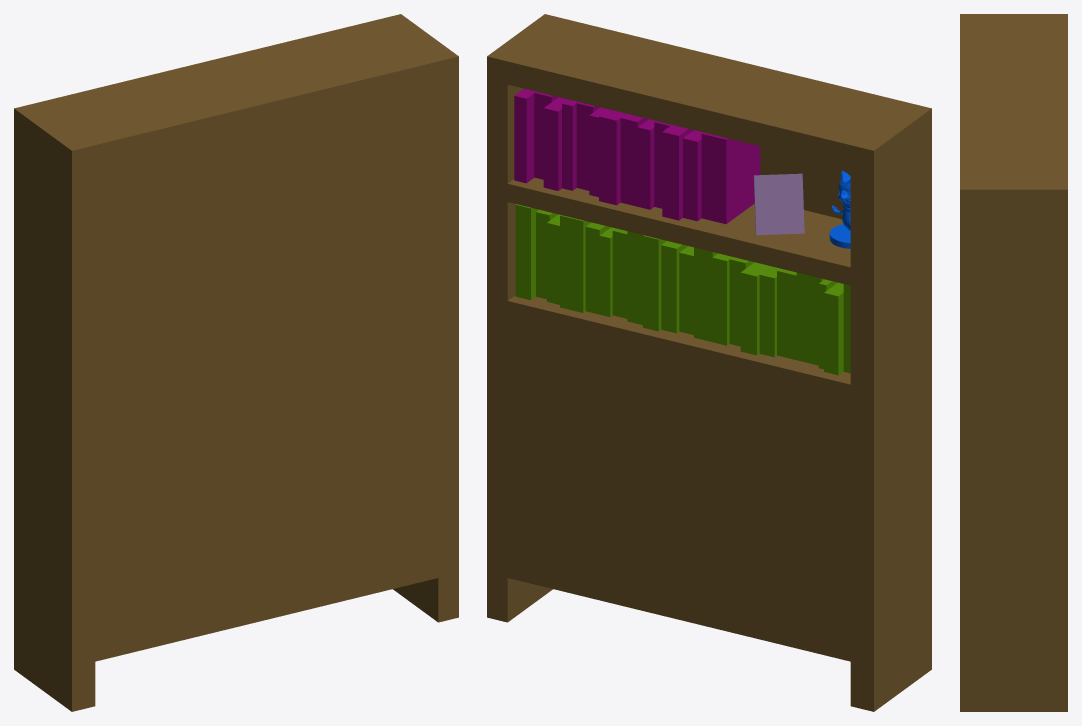
Rendered from Bookshelf.fbx.
The picture shows the model from 3 angles, left to right: view 1: azimuth 30°, elevation 25°; view 2: azimuth 150°, elevation 25°; view 3: azimuth 270°, elevation 25°; orthographic projection. The views are drawn at different scales.
Visible parts, largest first — view 1: Shelf_base; view 2: Shelf_base, Books_1, Book_2, Pictureframe, Patcher_action_figure; view 3: Shelf_base.
Boxes of the visible parts, x1,y1,x2,y2 form: Shelf_base: (14, 14, 458, 711); Shelf_base: (487, 14, 931, 711); Books_1: (515, 204, 850, 375); Book_2: (514, 88, 760, 224); Pictureframe: (753, 173, 804, 235); Patcher_action_figure: (829, 170, 850, 248); Shelf_base: (960, 14, 1067, 711).
Size of the model in its own units: 7.63 by 10.57 by 1.98.
